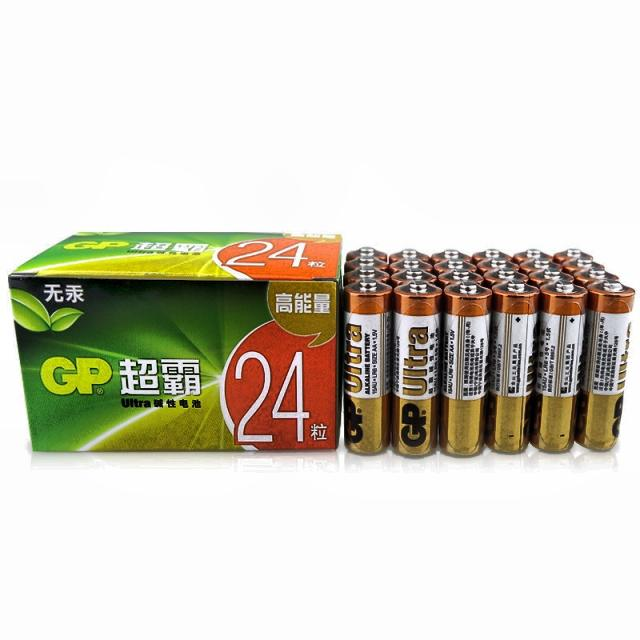Non-Valuable Waste - Batteries: (575, 274, 635, 450), (530, 276, 588, 451), (485, 279, 540, 452), (439, 281, 492, 455), (392, 280, 442, 455), (344, 278, 392, 453)
